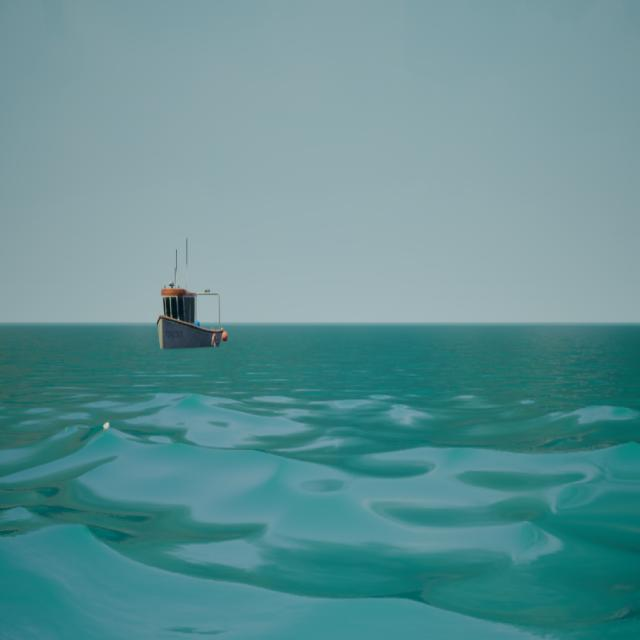ship: (152, 238, 232, 353)
